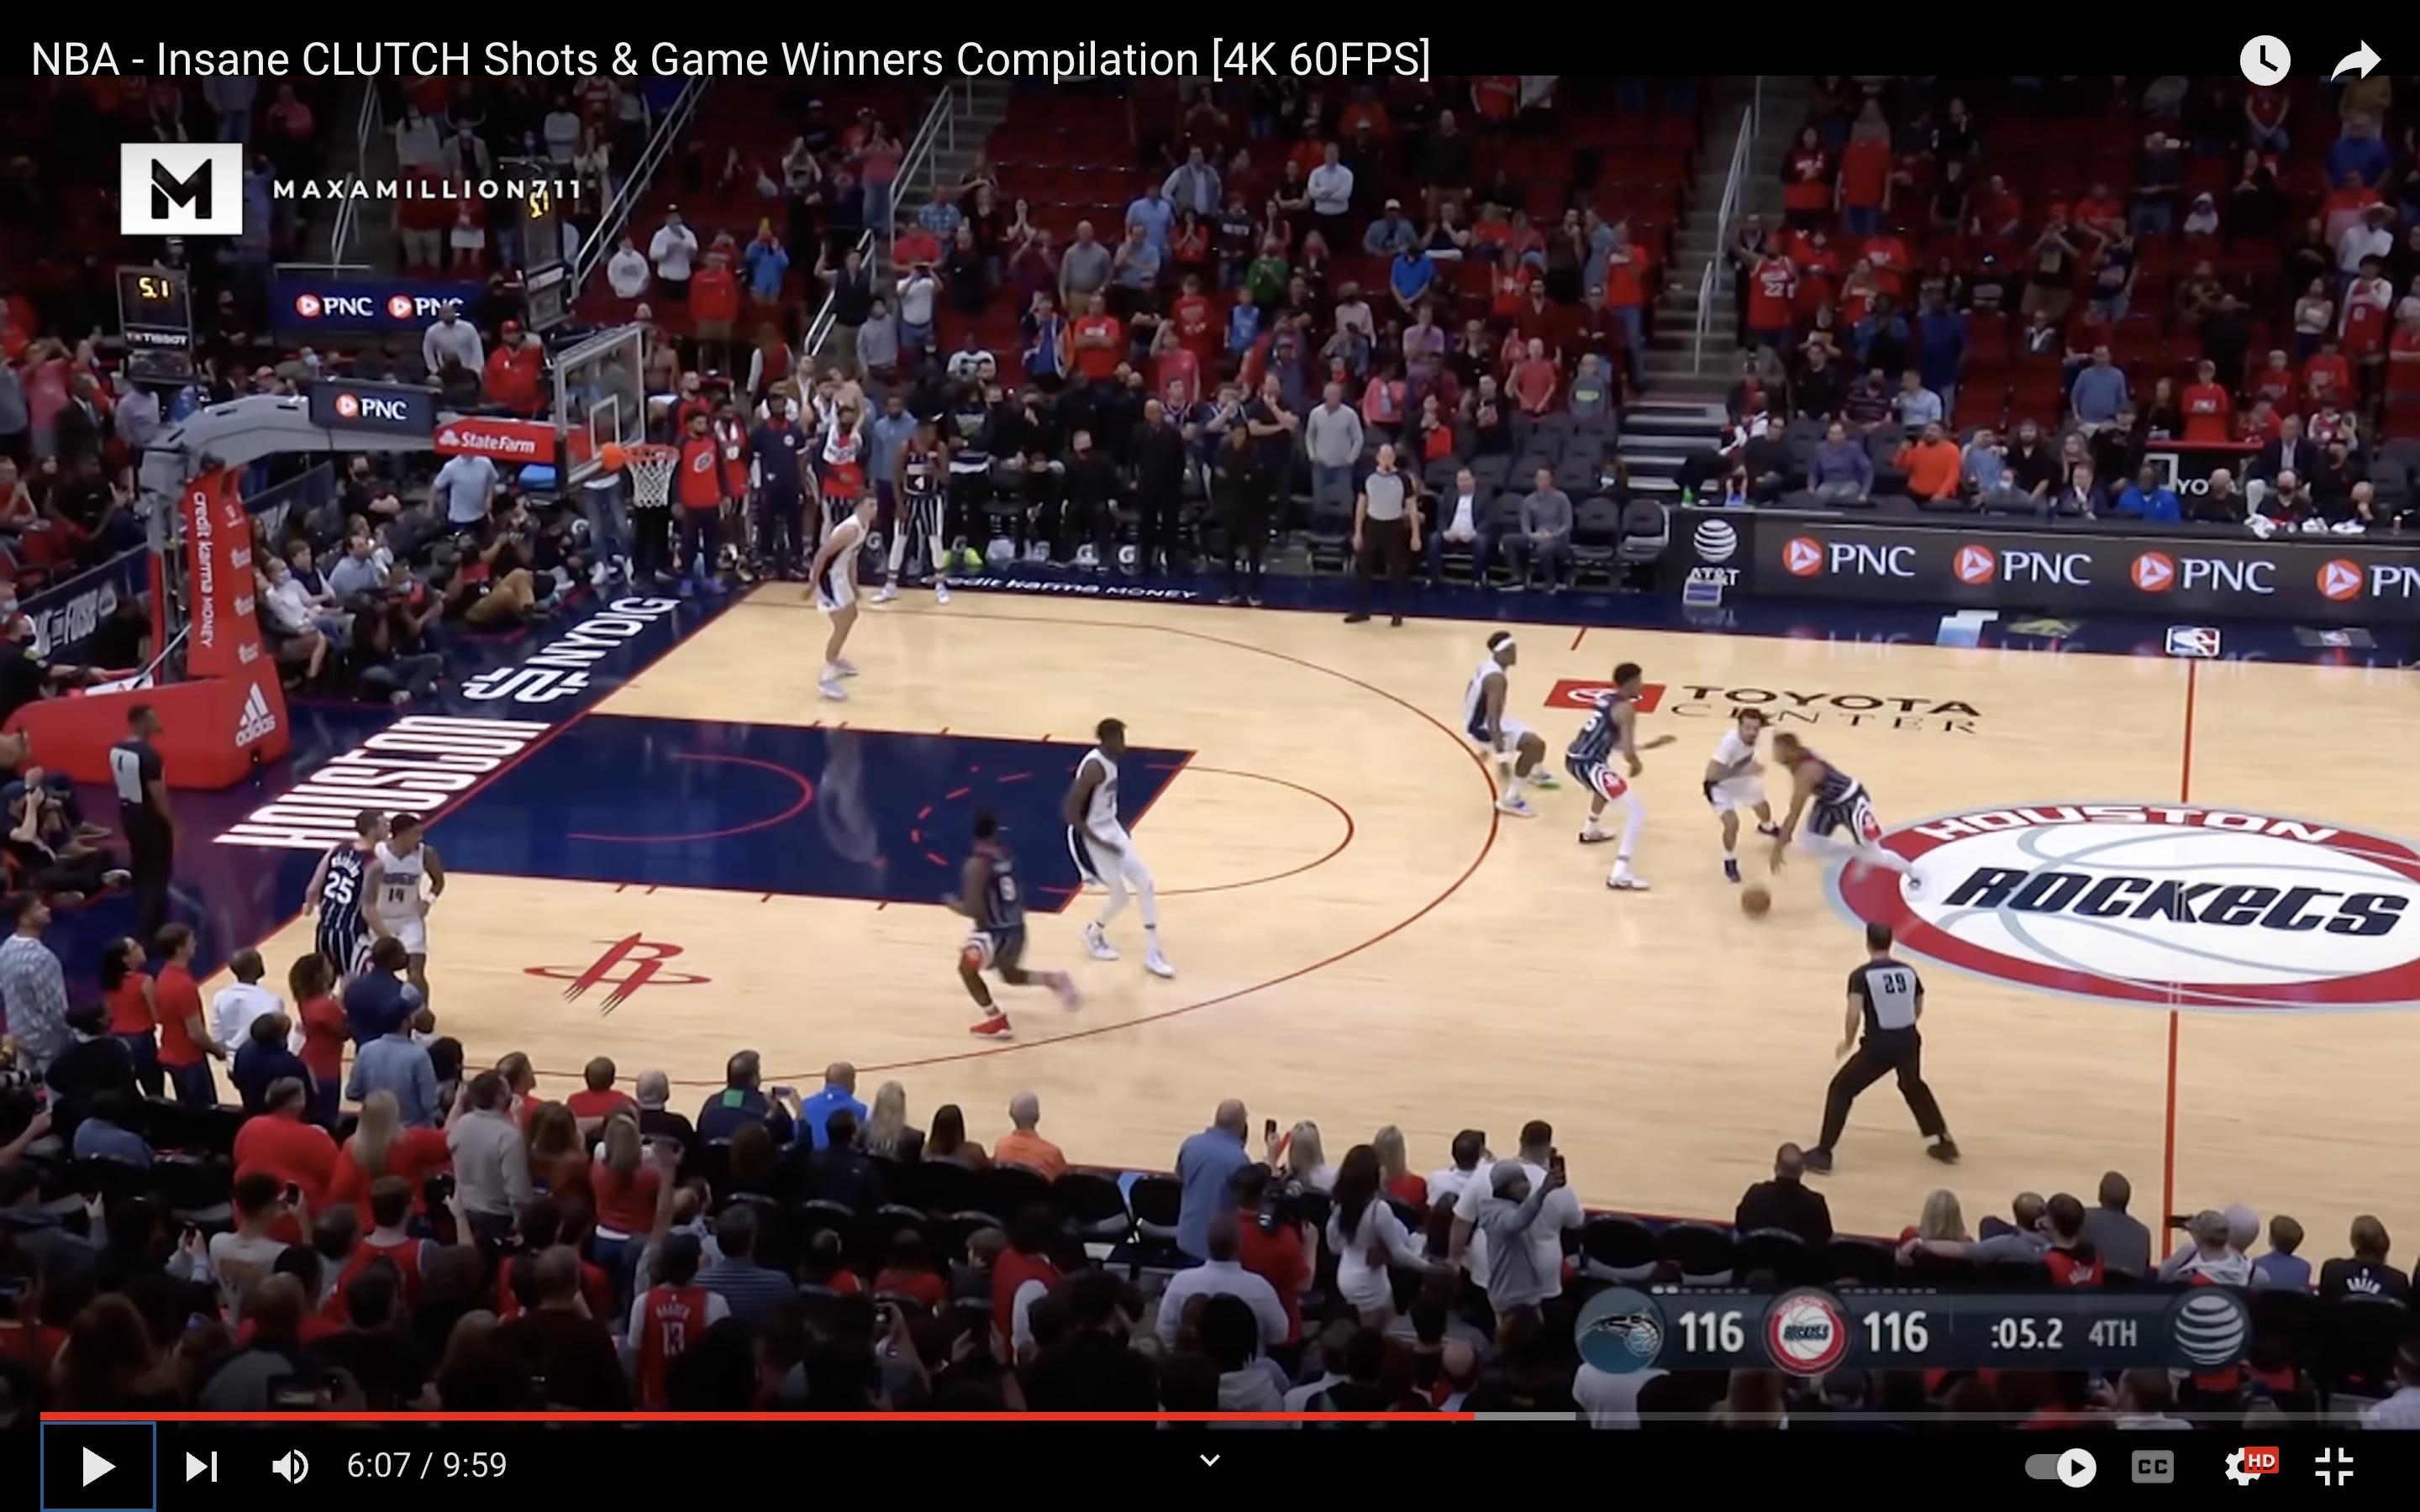Backboard: (556, 323, 649, 483)
Ball: (1740, 885, 1771, 919)
Basket: (620, 438, 681, 510)
Dribble: (1744, 912, 1769, 923)
Person: (935, 805, 1085, 1047), (1065, 710, 1181, 996), (1765, 722, 1931, 894), (1564, 658, 1665, 896), (1451, 626, 1562, 815), (363, 798, 449, 1037), (799, 487, 882, 708), (867, 409, 955, 614), (1697, 693, 1788, 886), (300, 805, 391, 988)
Referee: (1798, 909, 1965, 1188), (97, 699, 201, 928), (1336, 439, 1431, 635)
Shot Clock: (504, 170, 579, 335), (107, 267, 201, 386)
